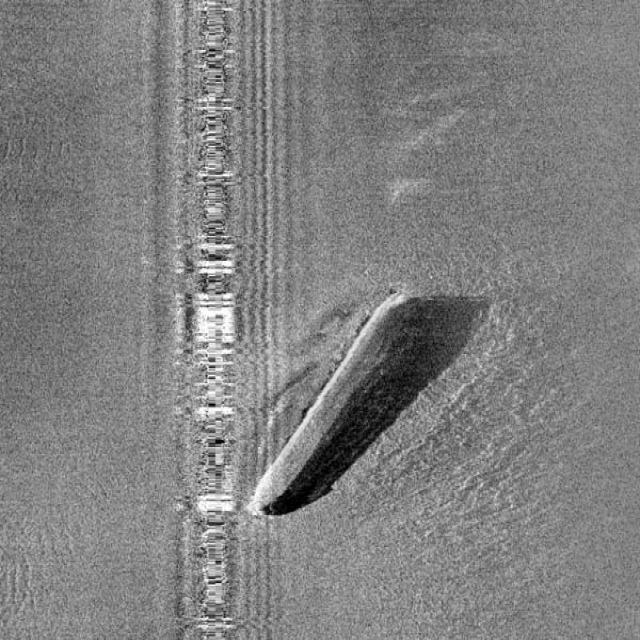ship: (247, 289, 415, 511)
